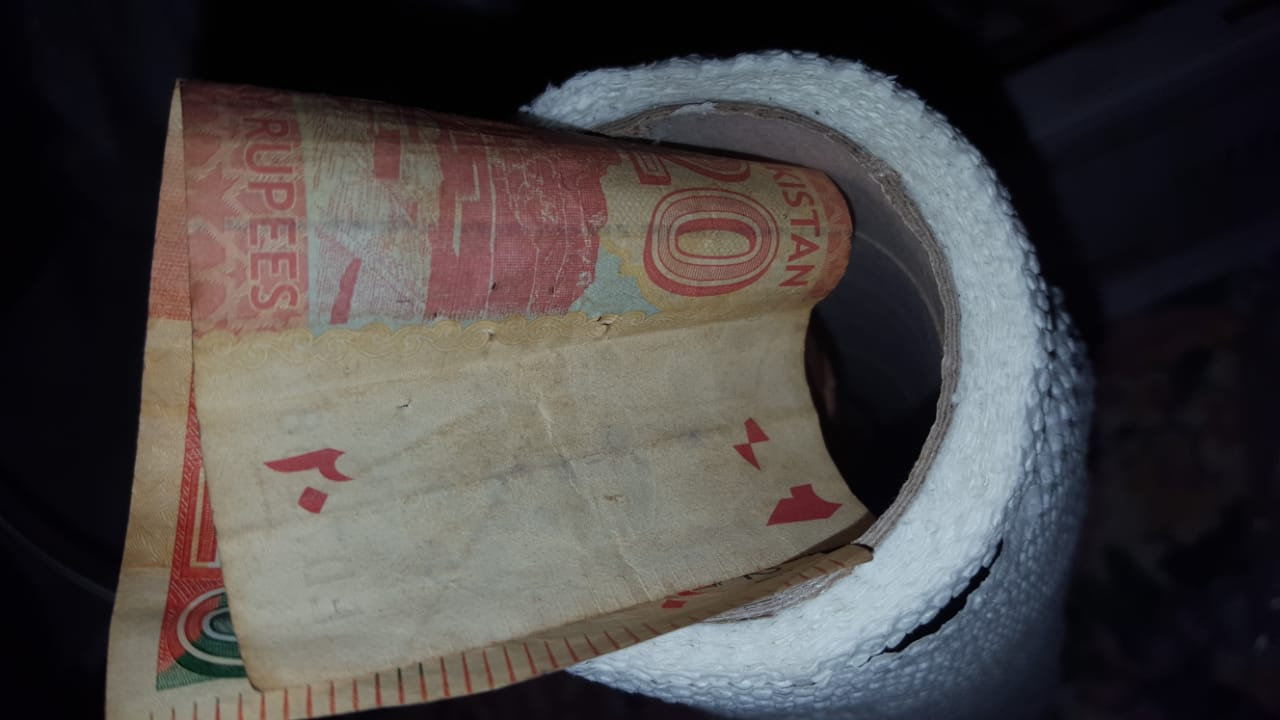20 rupee: (70, 67, 887, 713)
